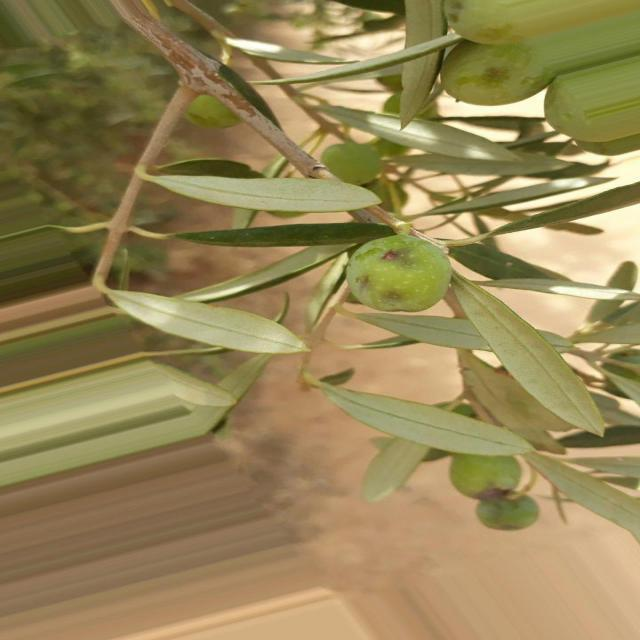Anthracnose: (346, 235, 452, 312)
